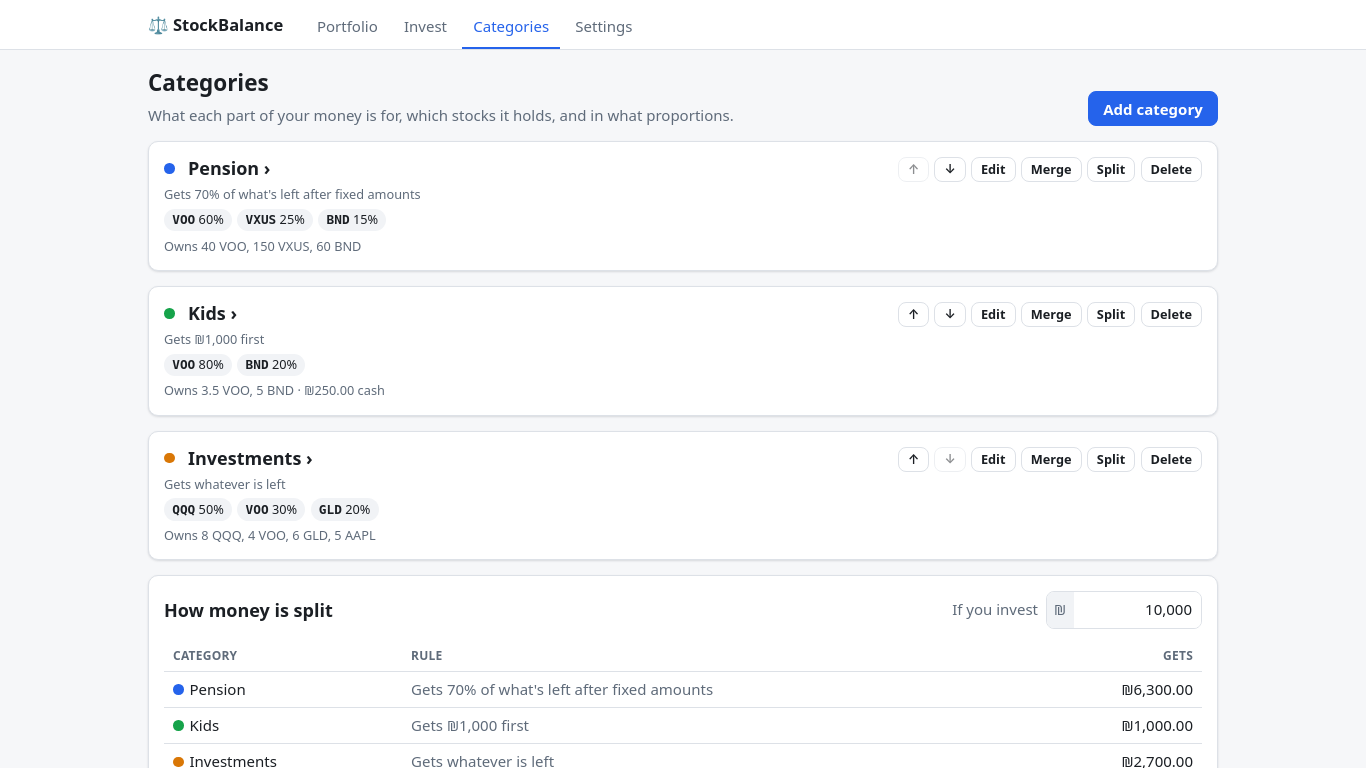
Test: CategoriesPage › requires targets to add up to 100% and can scale them
Click the 1st button "Edit" at (993, 170), box [971,157,1016,182]
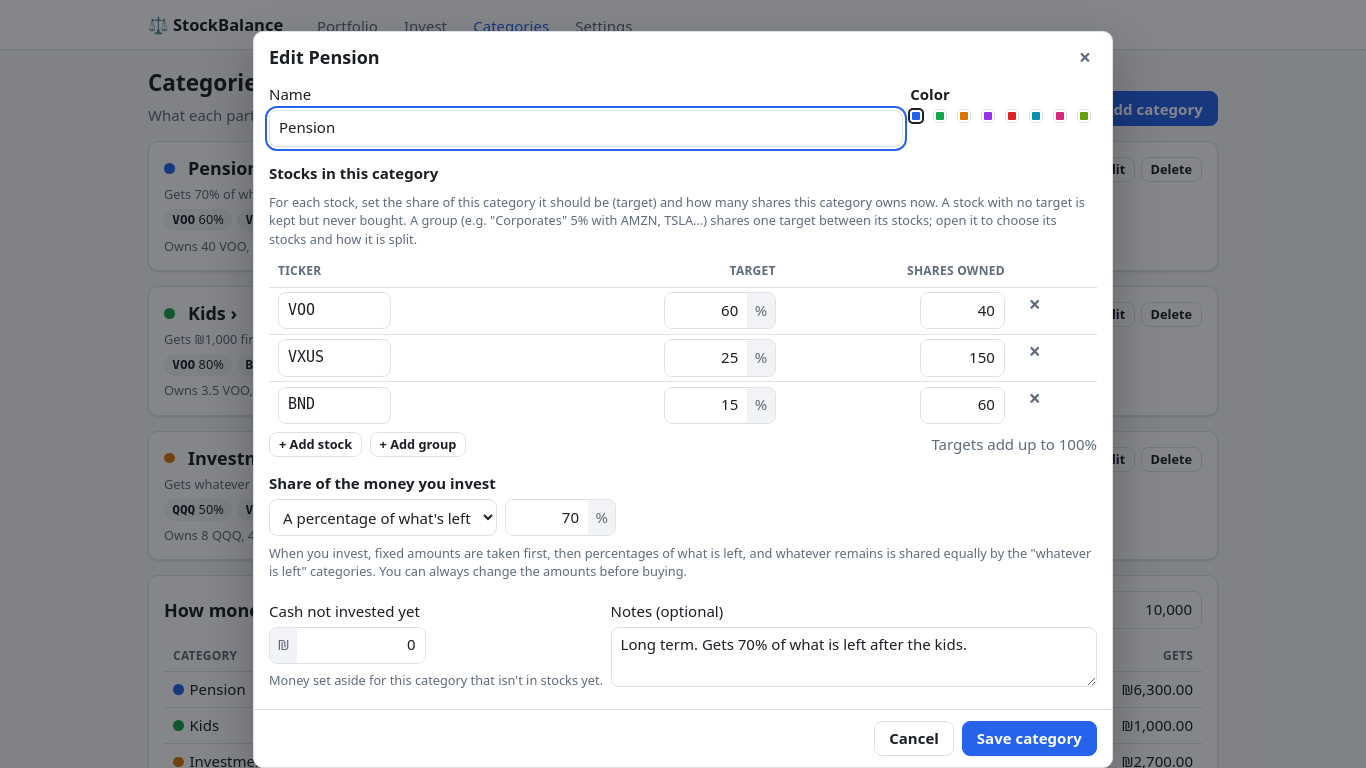
Replace the text in the field named "Target percent, row 1" with "50" at (706, 311), box [665,293,747,328]
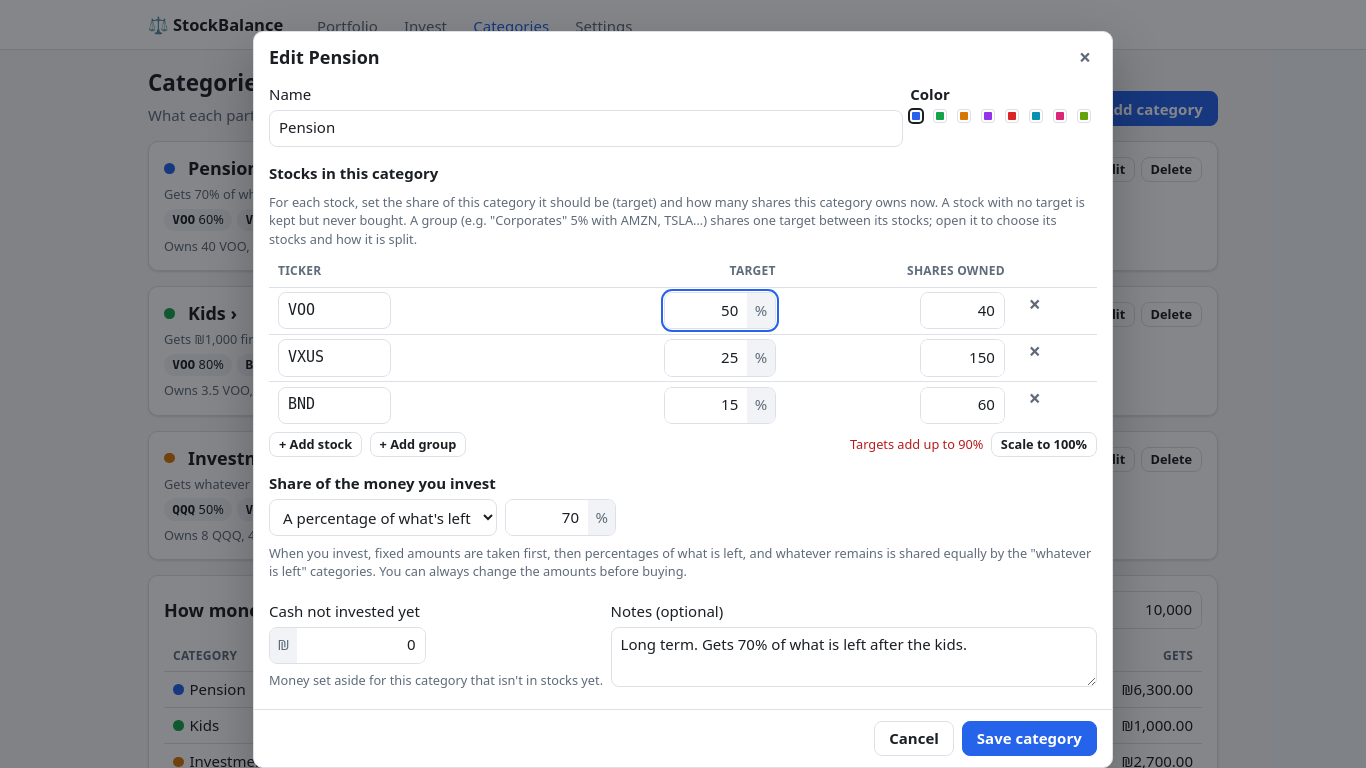
Now the text "Targets add up to 90%" is shown, box [850,435,983,454]
Click the button "Save category" at (1029, 738), box [962,721,1097,756]
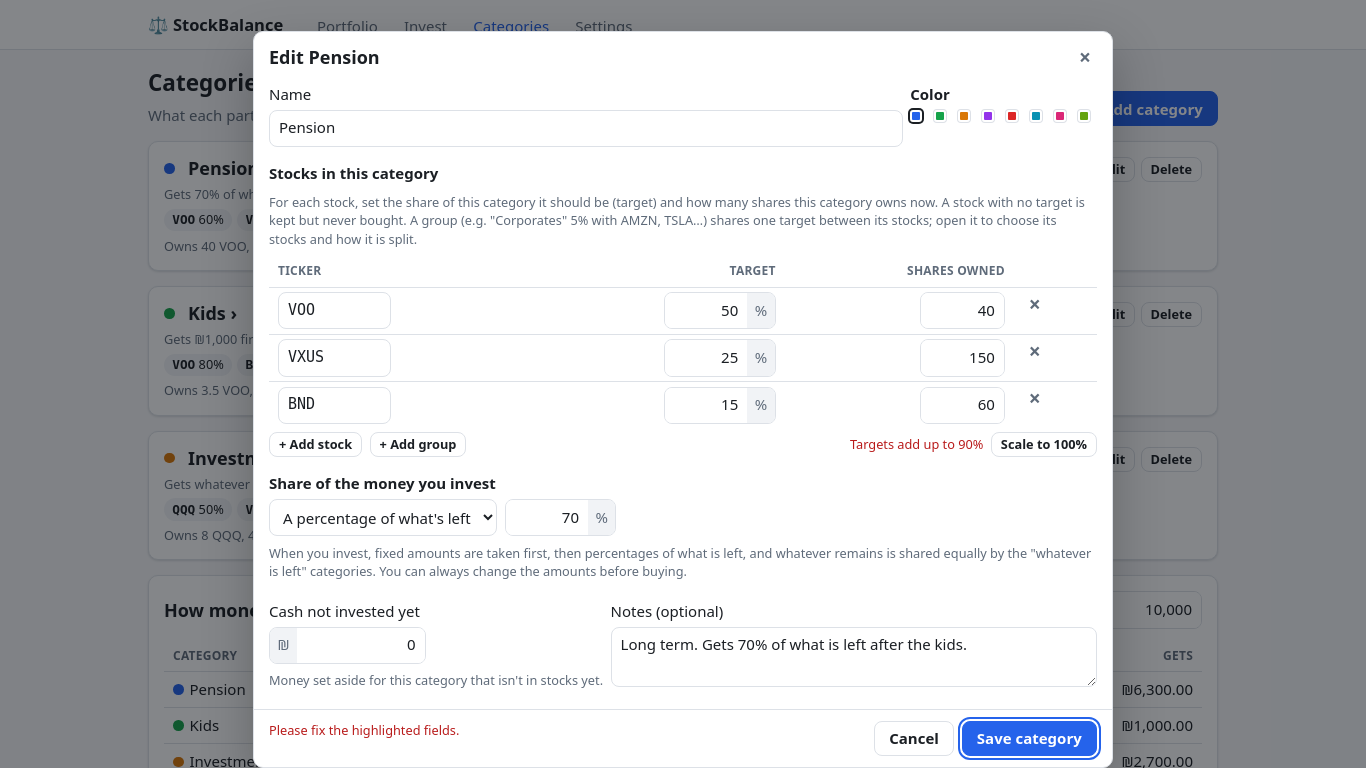
Now the text "Please fix the highlighted fields." is shown, box [269,721,459,739]
Click the button "Scale to 100%" at (1044, 444), box [991,432,1097,457]
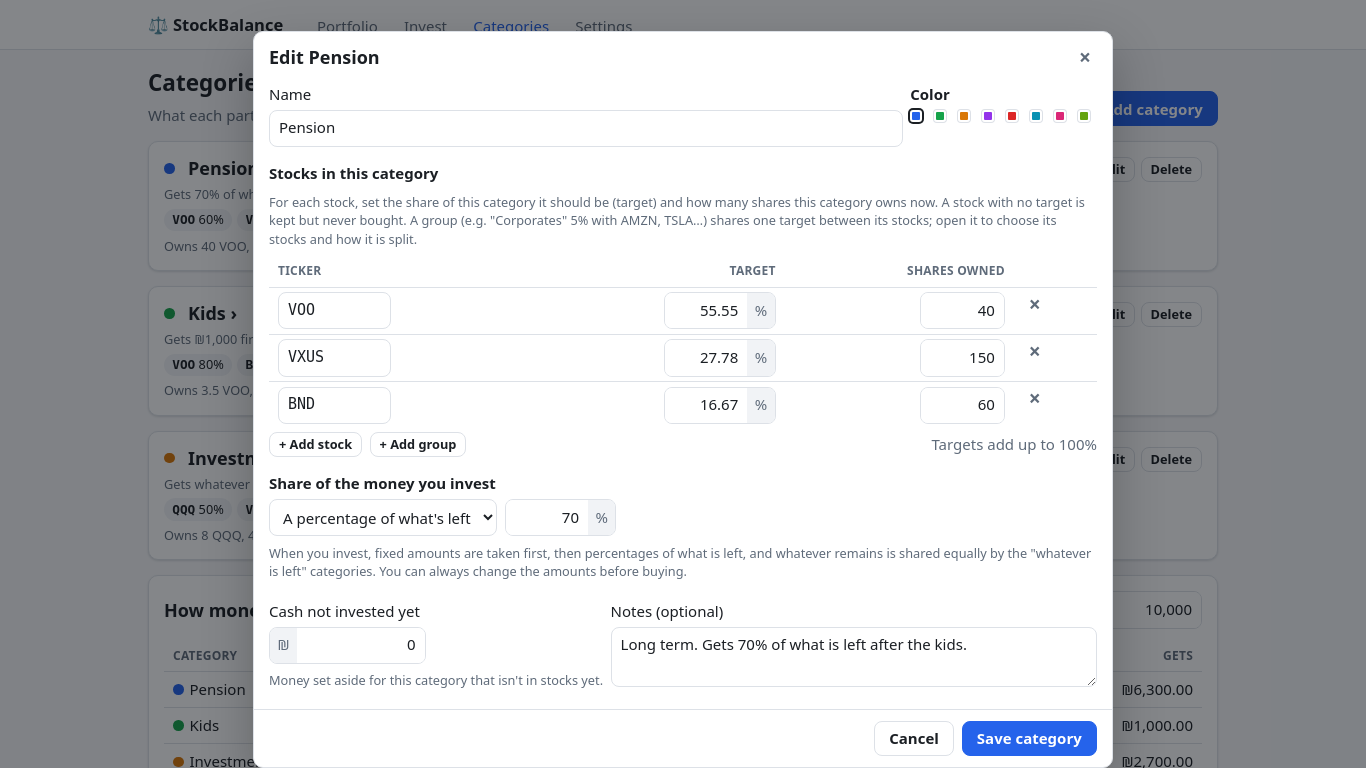
Now the text "Targets add up to 100%" is shown, box [931,434,1097,455]
Click the button "Save category" at (1029, 738), box [962,721,1097,756]
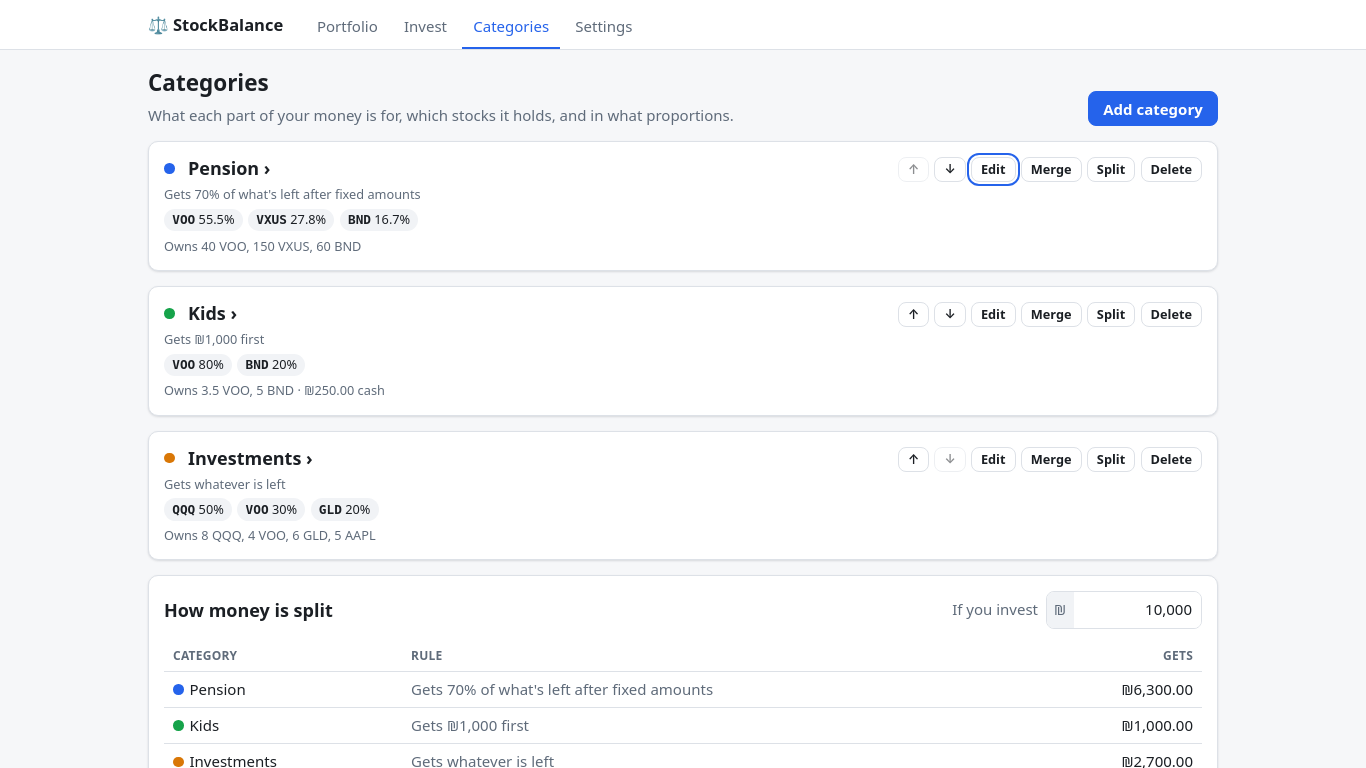
Now the dialog is gone
